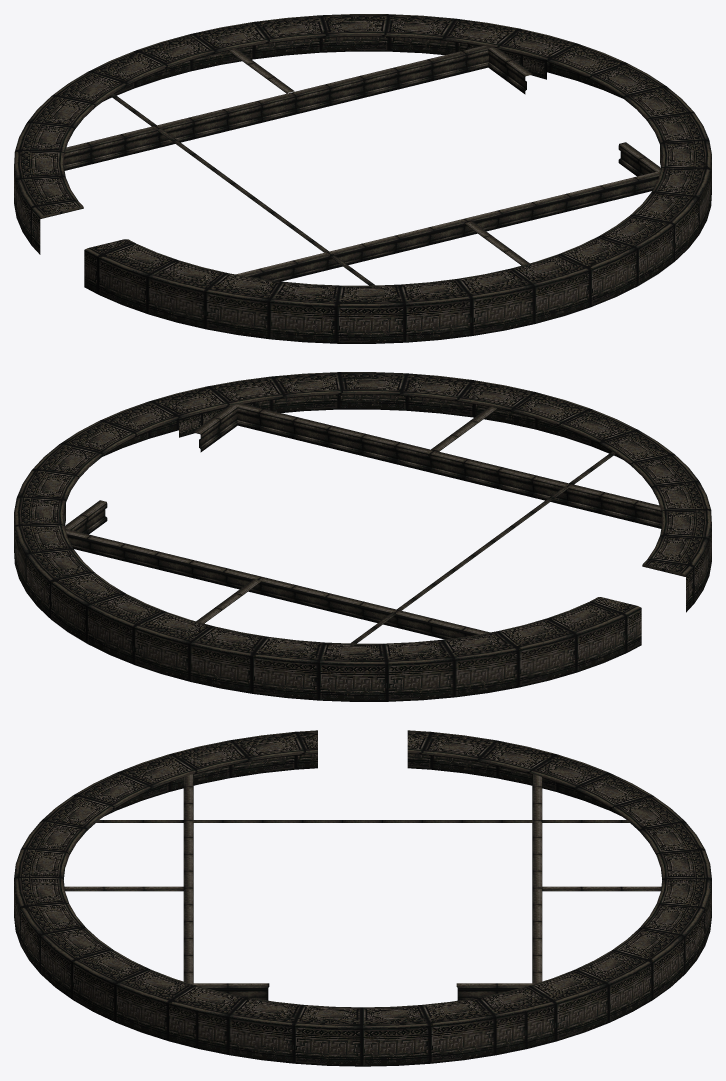
The model's file is EnvMdrMD_Atl_A_Floor_Battle.FBX.
The picture shows the model from 3 angles, top to bottom: view 1: azimuth 30°, elevation 25°; view 2: azimuth 150°, elevation 25°; view 3: azimuth 270°, elevation 25°; orthographic projection.
Visible parts, largest first — view 1: EnvMdrMD_Atl_A_Floor_Battle; view 2: EnvMdrMD_Atl_A_Floor_Battle; view 3: EnvMdrMD_Atl_A_Floor_Battle.
Part boxes in pixels (bbox=[...]): EnvMdrMD_Atl_A_Floor_Battle: bbox=[14, 14, 711, 343]; EnvMdrMD_Atl_A_Floor_Battle: bbox=[14, 372, 711, 701]; EnvMdrMD_Atl_A_Floor_Battle: bbox=[14, 730, 711, 1066].
Size of the model in its own units: 3542 by 215 by 3501.
